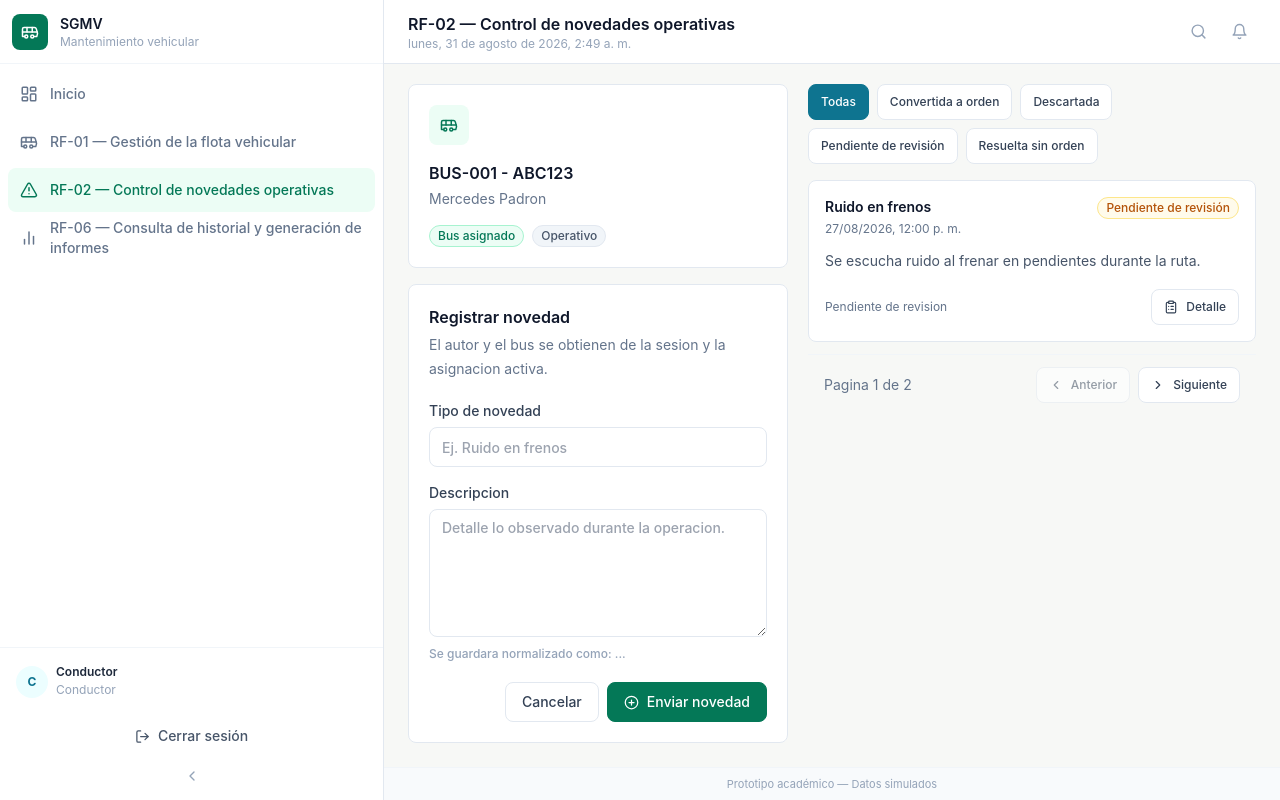
RF-02 novelty frontend › lets a driver register a novelty only for the assigned bus
(page scrolled)
Expected: the heading "BUS-001 - ABC123" is shown, [429, 163, 574, 183]
Click the button "Enviar novedad".
click(687, 702)  # box [607, 682, 767, 722]
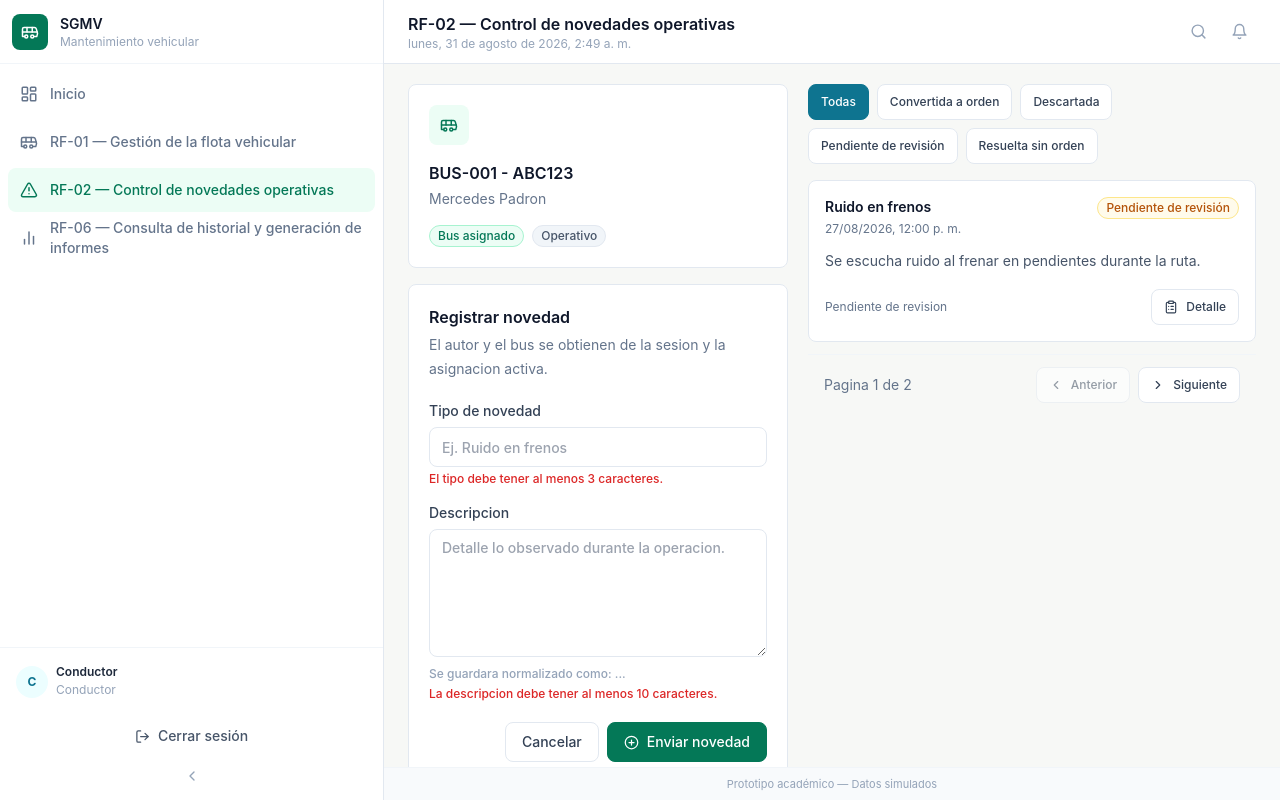
Expected: the text "El tipo debe tener al menos 3 caracteres." is shown, [429, 471, 663, 486]
Expected: the text "La descripcion debe tener al menos 10 caracteres." is shown, [429, 686, 767, 702]
Type "Ruido en frenos" into the field labelled "Tipo de novedad El tipo debe tener al menos 3 caracteres.".
click(598, 447); type("Ruido en frenos")  # box [429, 427, 767, 467]
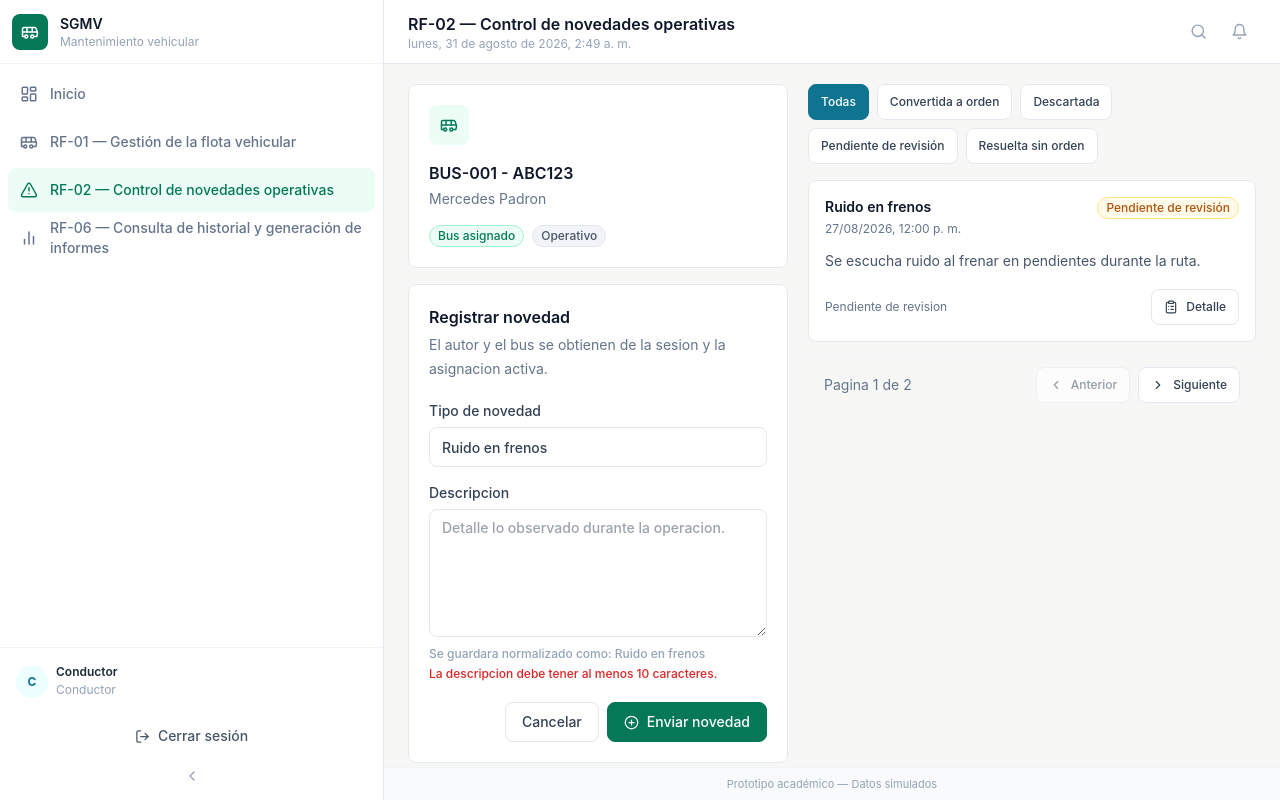
Type "Se escucha ruido al frenar en pendientes durante la ruta." into the text box labelled "Descripcion".
click(598, 573); type("Se escucha ruido al frenar en pendientes durante la ruta.")  # box [429, 509, 767, 637]
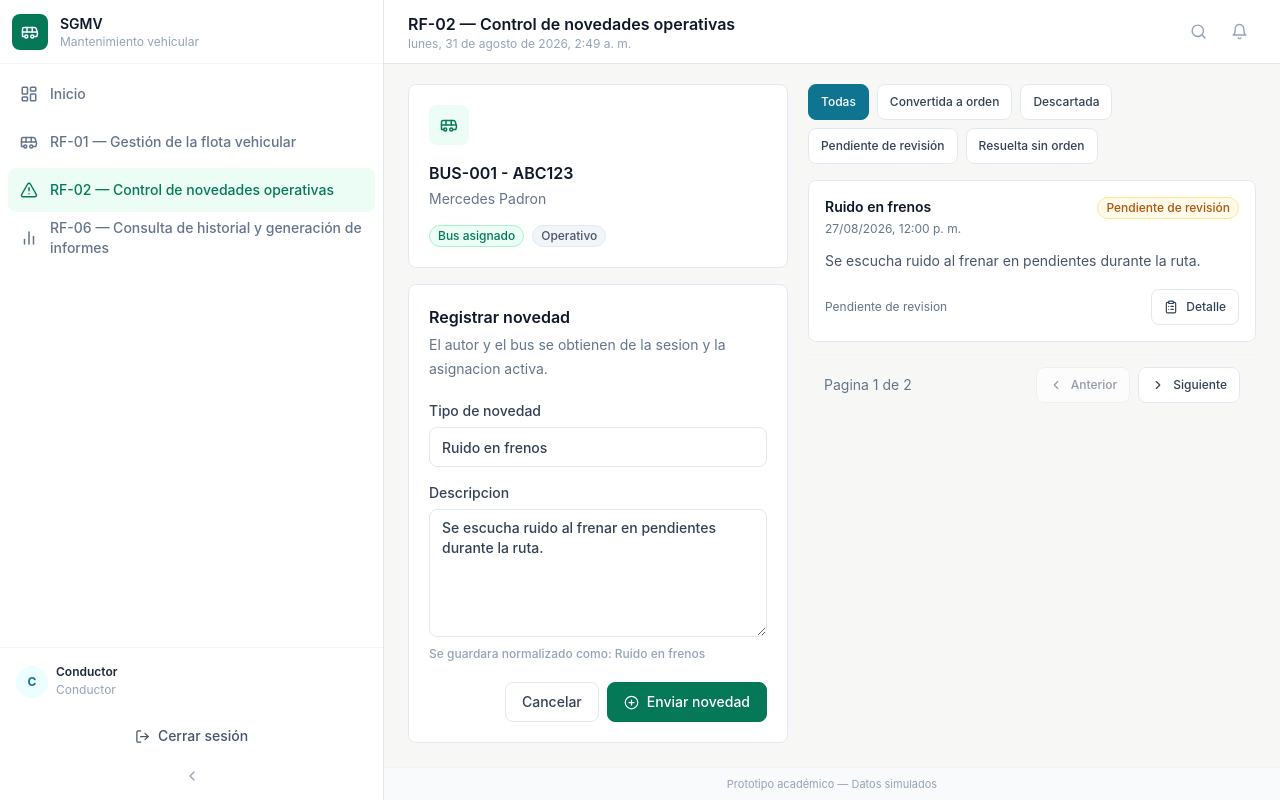
Click the button "Enviar novedad".
click(687, 702)  # box [607, 682, 767, 722]
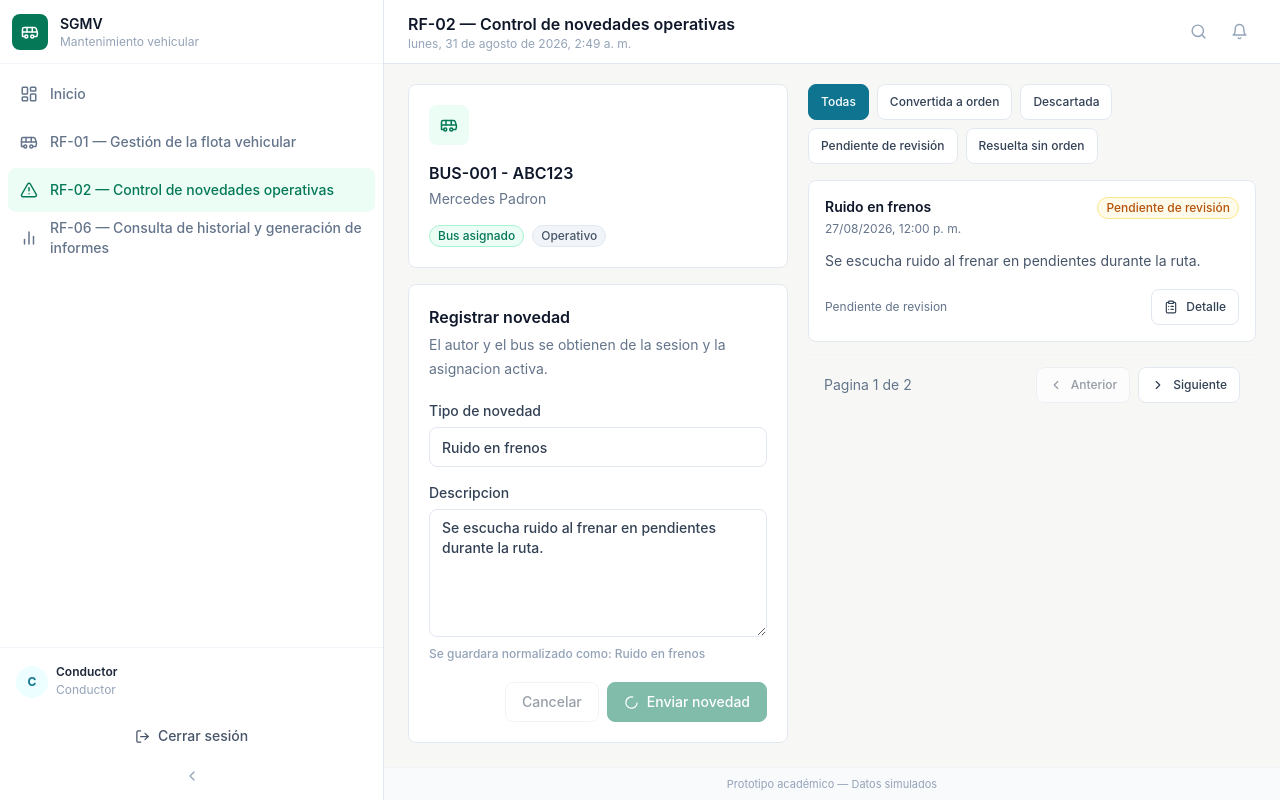
Click the button "Enviar novedad".
click(687, 702)  # box [607, 682, 767, 722]
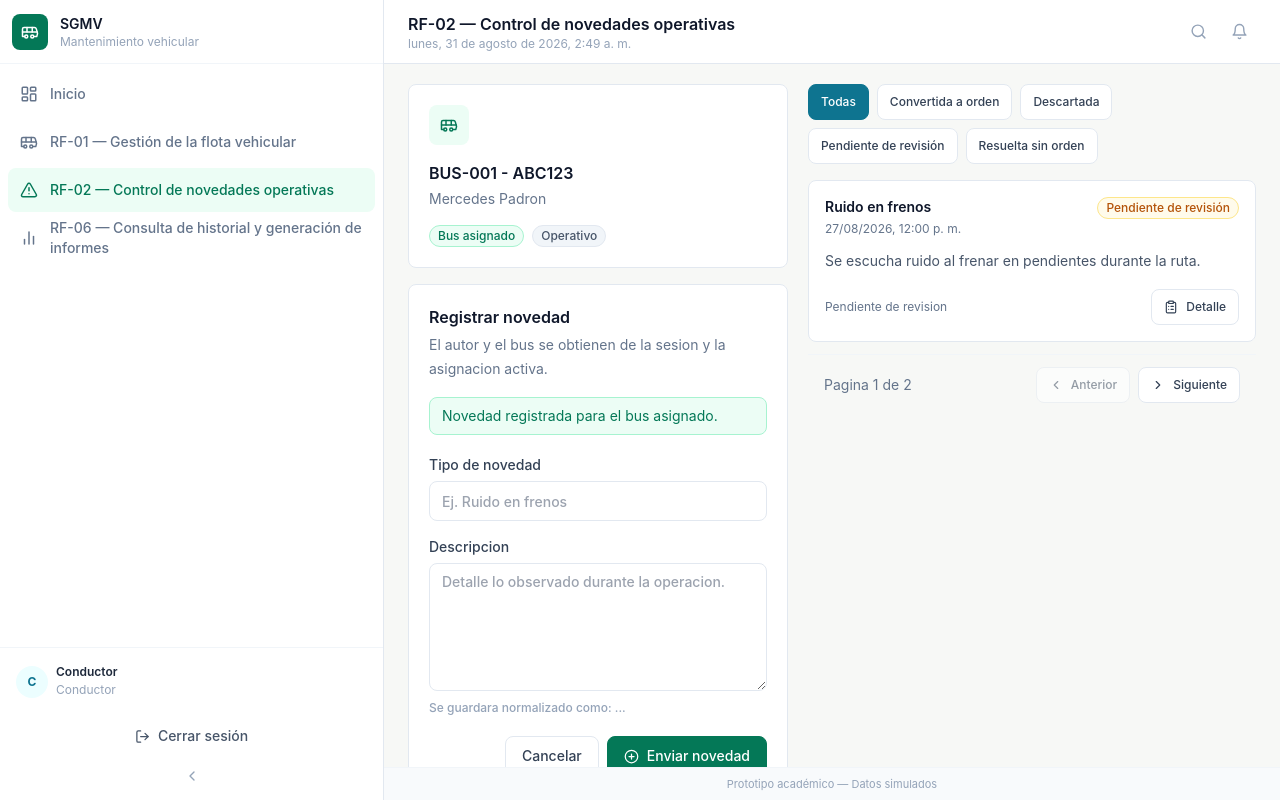
Expected: the text "Novedad registrada para el bus asignado." is shown, [429, 397, 767, 435]
